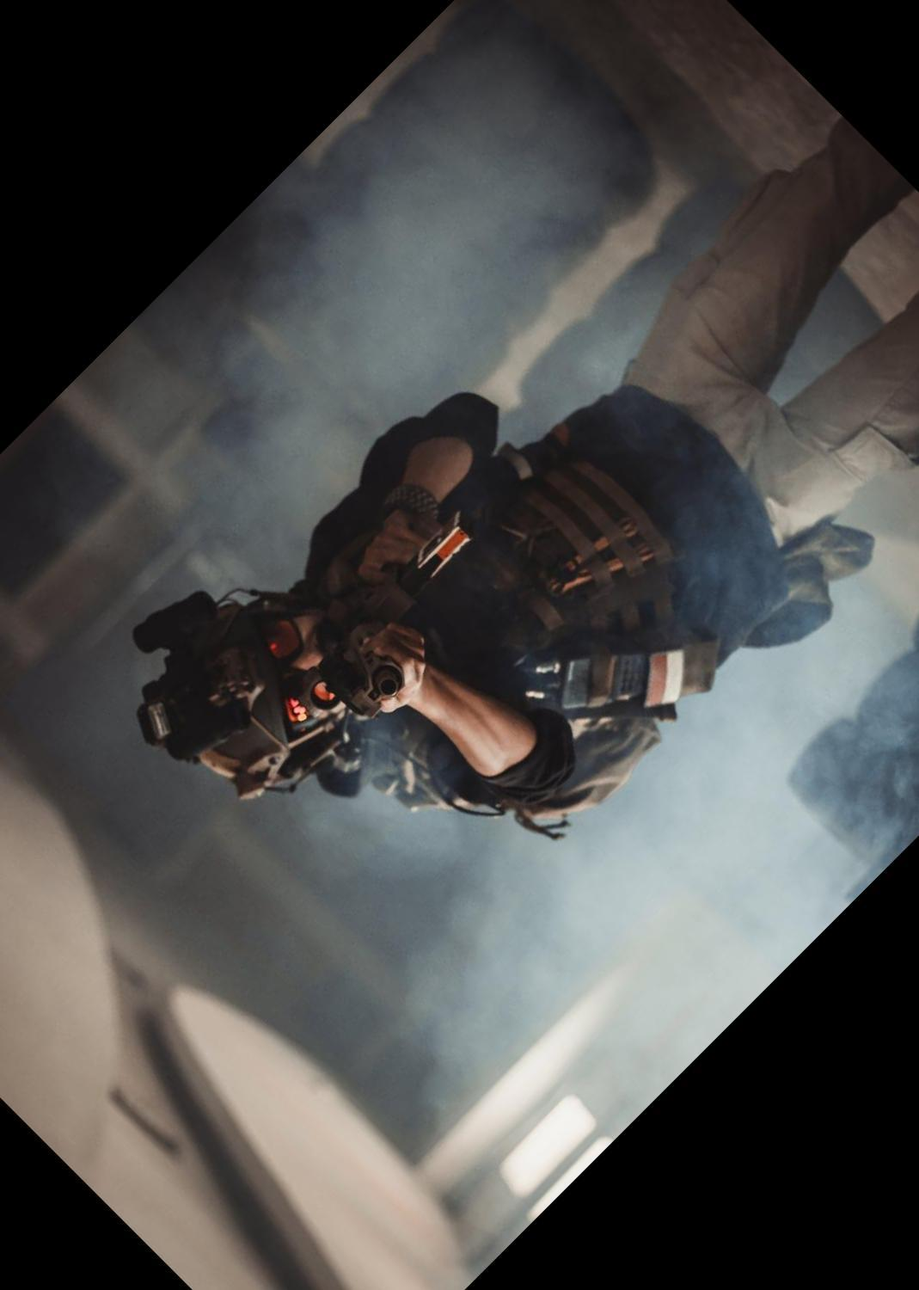larga: (304, 511, 476, 721)
